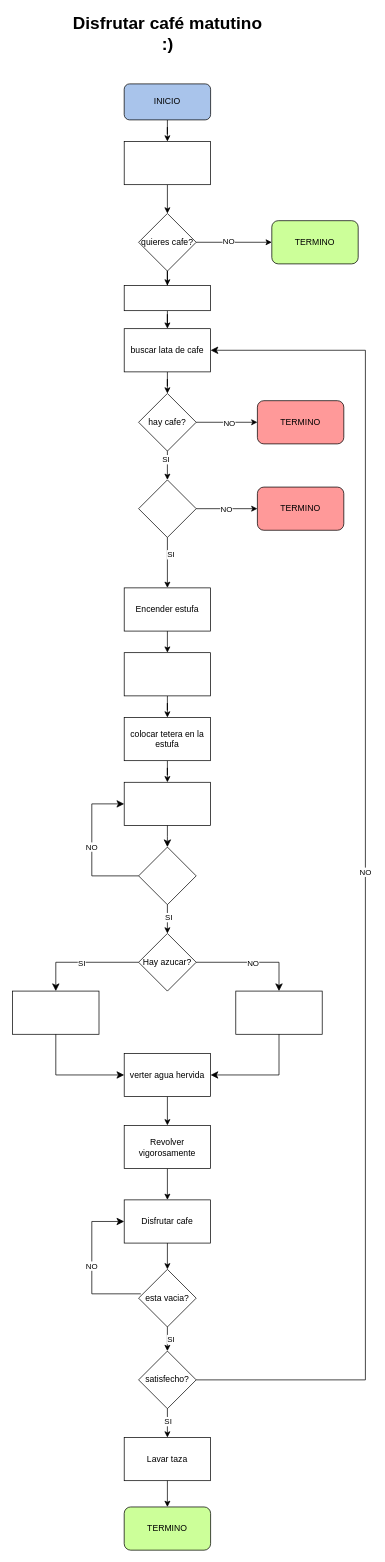
This 385x1562 diagram has some shape labels left out. Here are the shapes that lost their labels. From the top down, the box of each, then its label:
(123, 141, 211, 185): Despertar a las 7:00 am
(123, 285, 211, 311): Buscar taza
(138, 479, 196, 537): Hay Agua?
(123, 652, 211, 696): Verter agua dentro de tetera
(123, 782, 211, 825): Esperar a que hierva el agua
(138, 846, 196, 905): Hivio?
(12, 990, 99, 1034): Verter 2 cucharadas de cafe con 2 de azucar
(235, 990, 322, 1034): Verter 2 cucharadas de cafe
